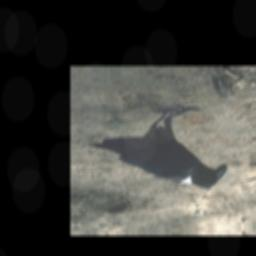Crow: (85, 103, 228, 197)
